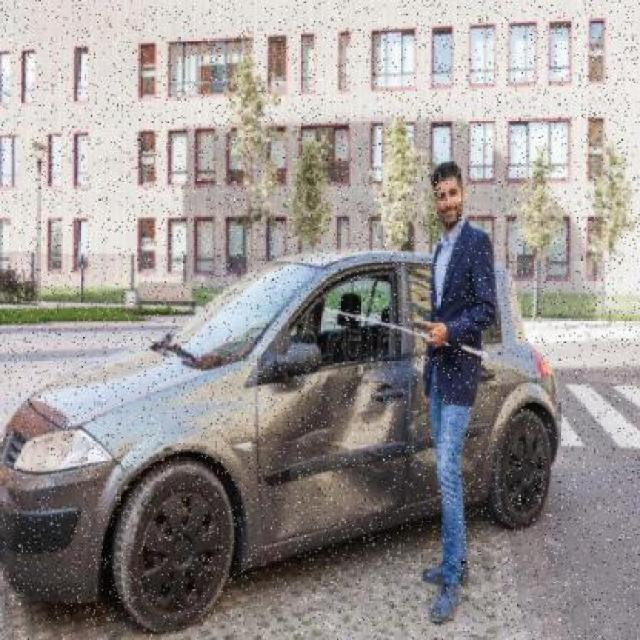doorouter-dent: (259, 357, 408, 521)
fender-dent: (115, 406, 257, 487)
